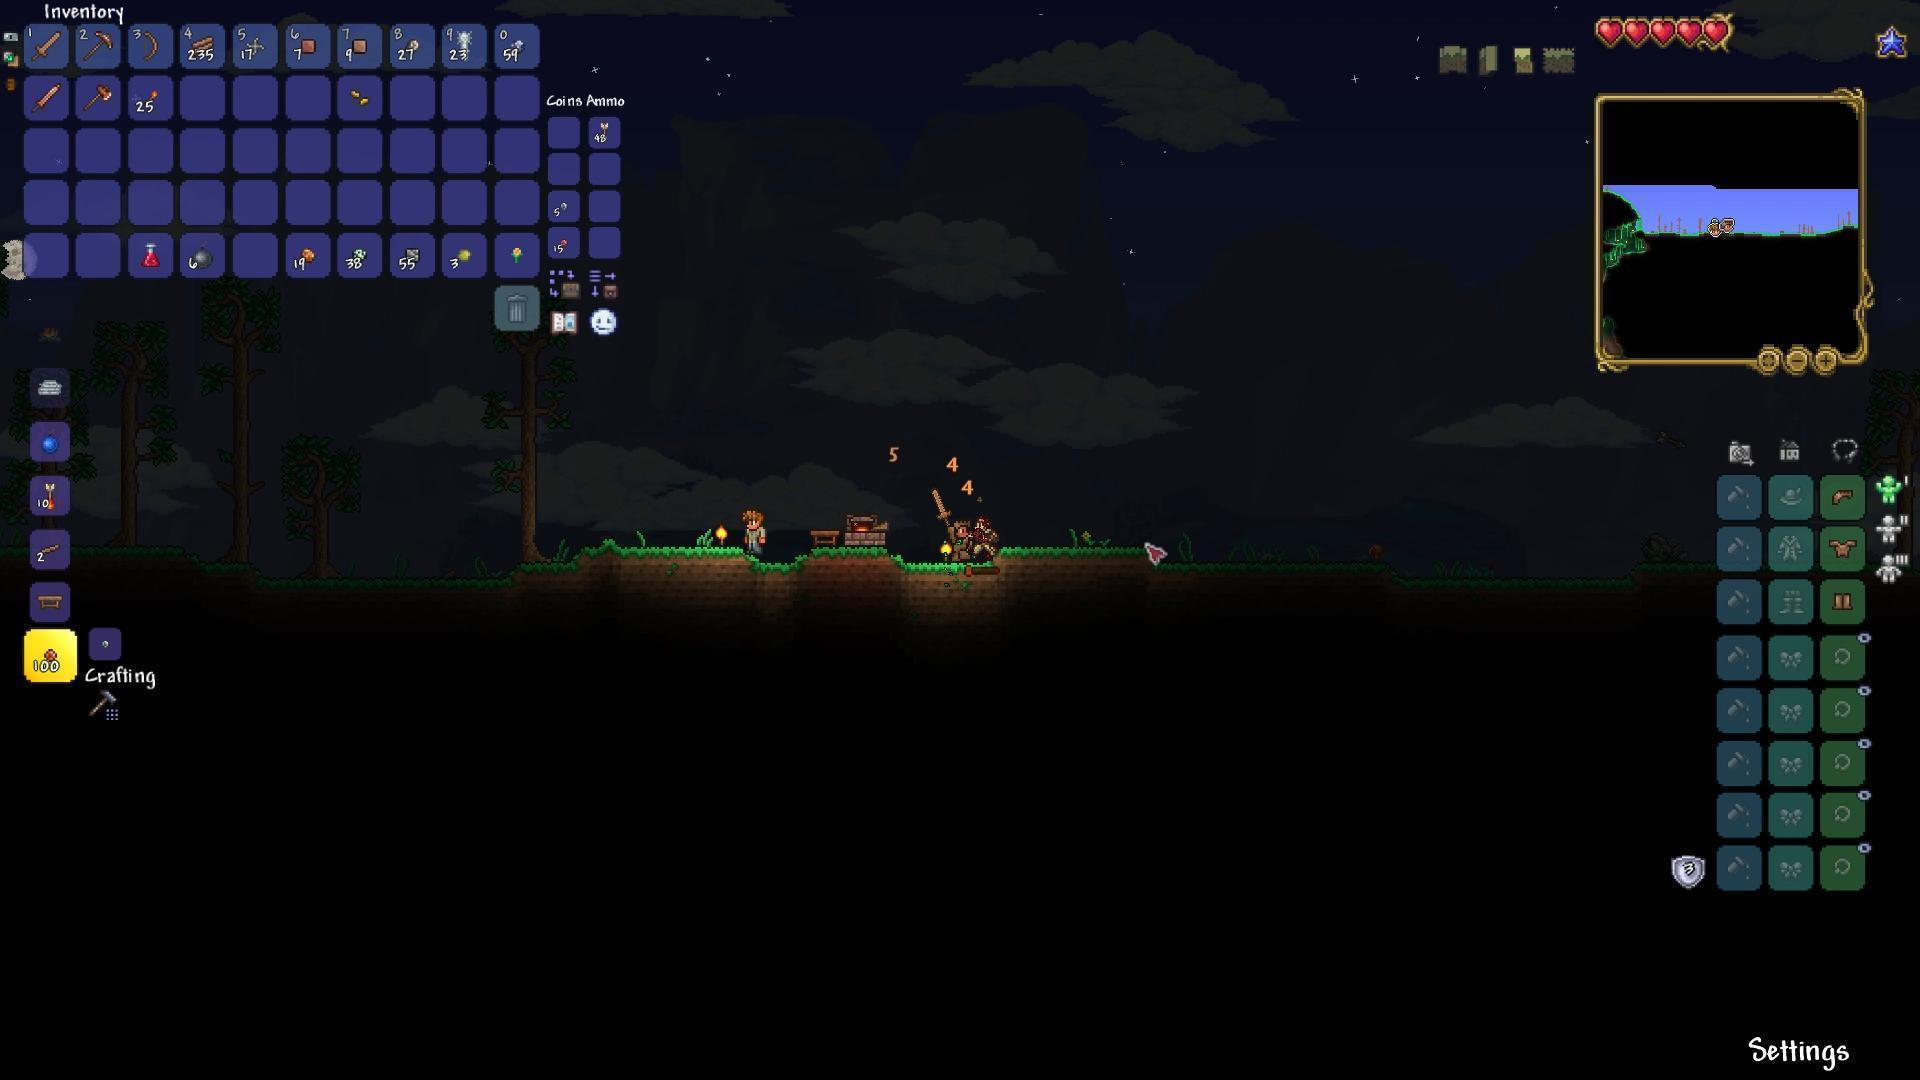arrow: (599, 119, 611, 145)
axe: (78, 84, 113, 115)
bomb: (191, 245, 216, 269)
bow: (140, 28, 161, 61)
breastplate: (1829, 538, 1857, 558)
furnace: (837, 512, 889, 545)
gel: (455, 245, 473, 264)
pickaxe: (82, 30, 115, 63)
rope: (454, 29, 475, 58)
shuriken: (245, 36, 265, 55)
wood: (190, 30, 214, 57)
